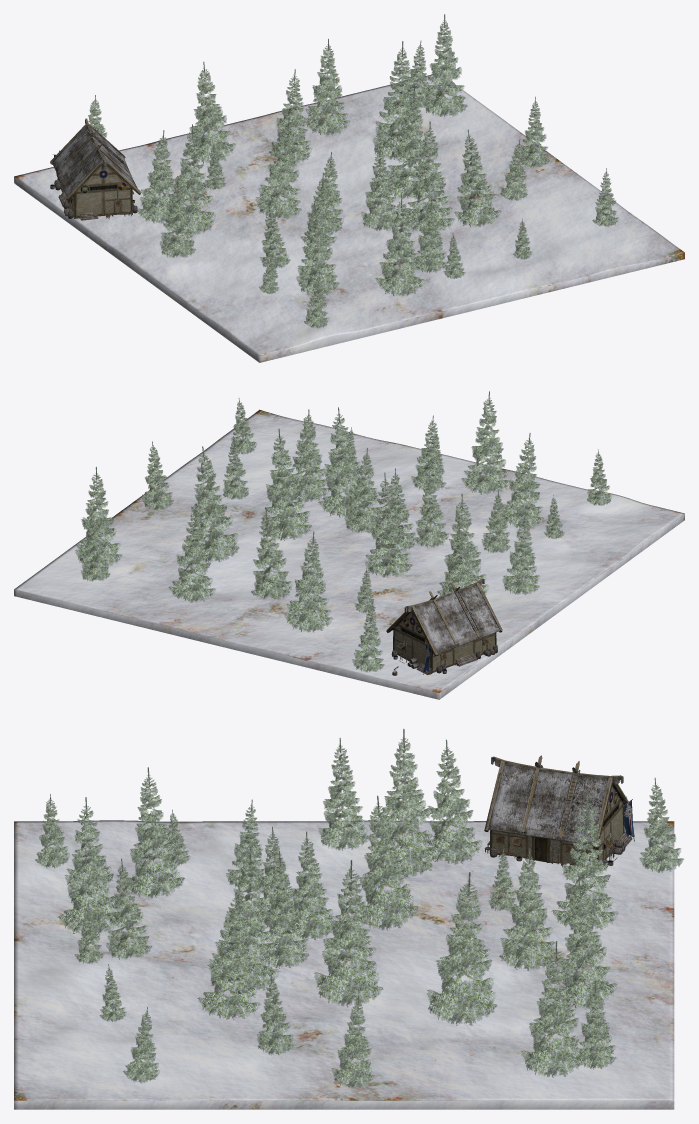
3 renders of one model, top to bottom at view 1: azimuth 30°, elevation 25°; view 2: azimuth 150°, elevation 25°; view 3: azimuth 270°, elevation 25°, orthographic. The views are drawn at different scales.
Parts seen in each view (by area): view 1: Fur Pine Tree.Shape, Fur Pine Tree.Shape_Pine_Tree_Needles_BaseColor_0.001, polySurface757, polySurface531, polySurface734; view 2: Fur Pine Tree.Shape, Fur Pine Tree.Shape_Pine_Tree_Needles_BaseColor_0.001, polySurface757; view 3: Fur Pine Tree.Shape, Fur Pine Tree.Shape_Pine_Tree_Needles_BaseColor_0.001, polySurface531.
Boxes of the visible parts, x1,y1,x2,y2 form: Fur Pine Tree.Shape: [14, 14, 684, 362]; Fur Pine Tree.Shape_Pine_Tree_Needles_BaseColor_0.001: [88, 40, 618, 273]; polySurface757: [52, 126, 101, 195]; polySurface531: [90, 126, 137, 188]; polySurface734: [76, 192, 102, 216]; Fur Pine Tree.Shape: [14, 391, 684, 699]; Fur Pine Tree.Shape_Pine_Tree_Needles_BaseColor_0.001: [81, 403, 539, 672]; polySurface757: [415, 584, 499, 653]; Fur Pine Tree.Shape: [14, 729, 674, 1109]; Fur Pine Tree.Shape_Pine_Tree_Needles_BaseColor_0.001: [99, 738, 683, 1087]; polySurface531: [488, 763, 608, 844].
Size of the model in its own units: 30.38 by 8.2 by 30.48.
Materials: 4 (3 with a texture image).
